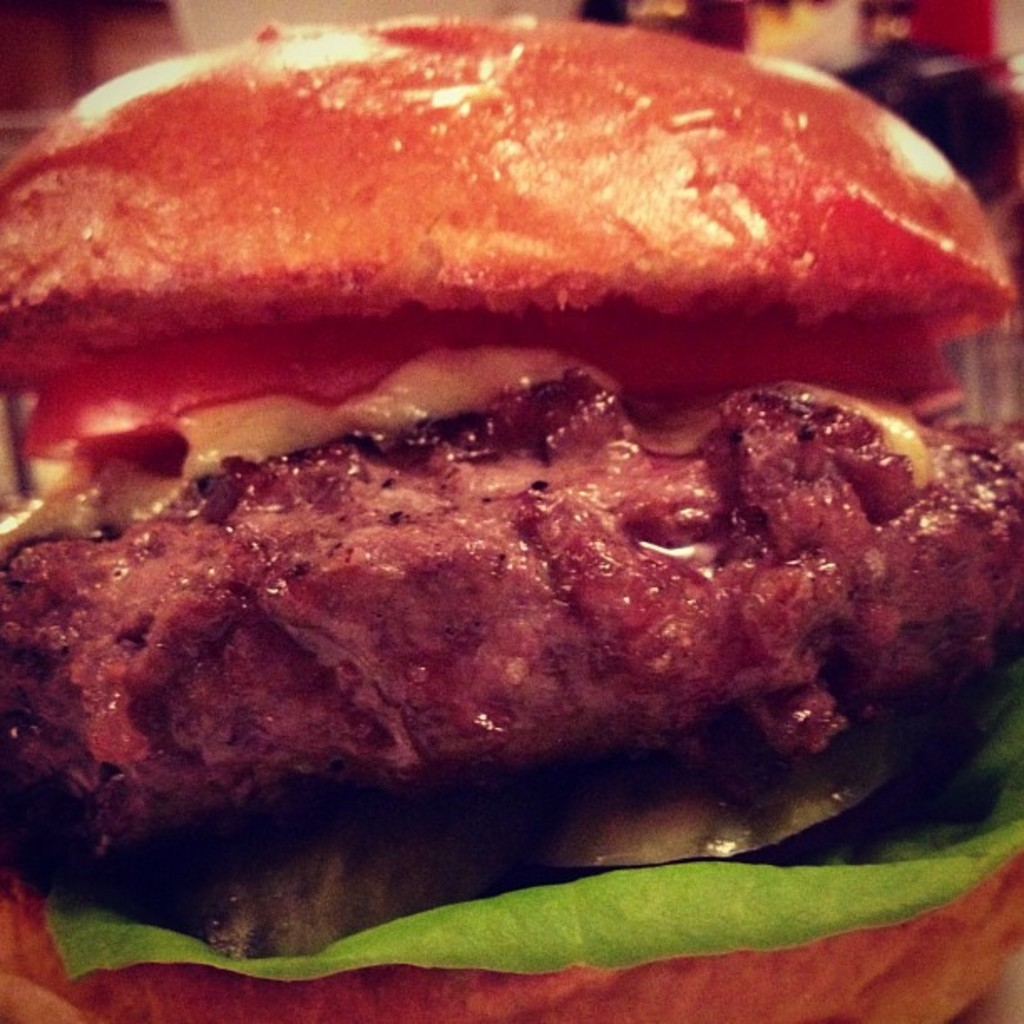Hamburger: (0, 0, 1015, 1022)
